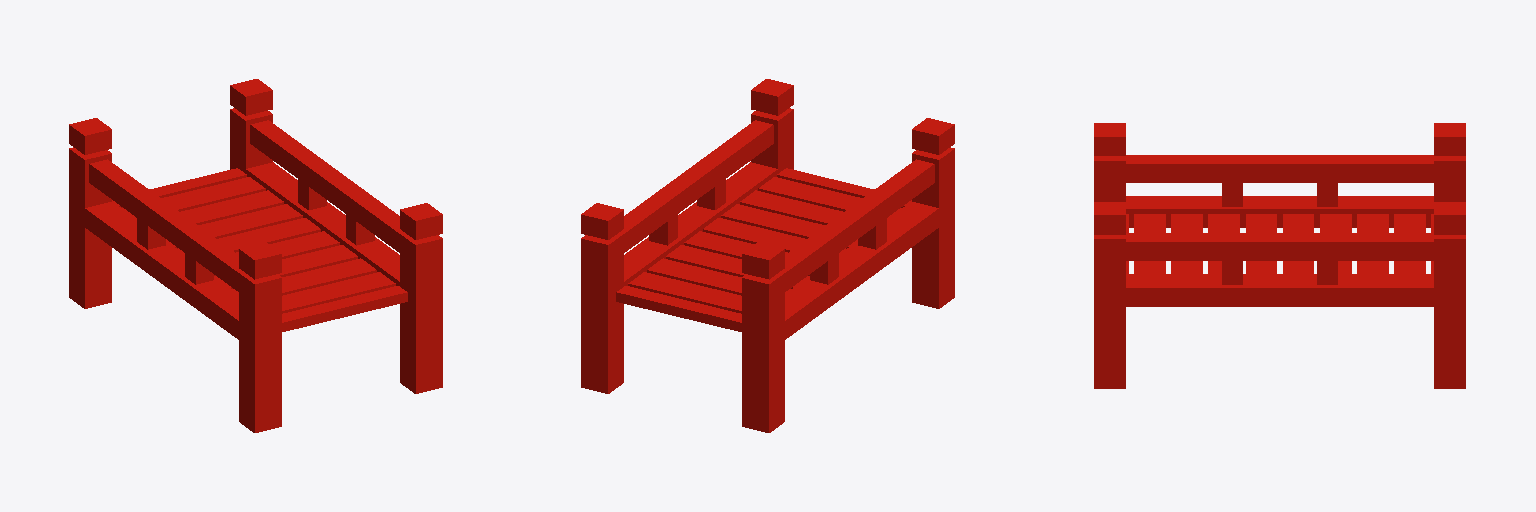
The picture shows the model from 3 angles: view 1: azimuth 30°, elevation 25°; view 2: azimuth 150°, elevation 25°; view 3: azimuth 270°, elevation 25°; orthographic projection.
Visible parts, largest first — view 1: cube; view 2: cube; view 3: cube.
Part boxes in pixels (left/top/right/bottom): cube: left=69, top=79, right=442, bottom=432; cube: left=581, top=79, right=954, bottom=432; cube: left=1094, top=123, right=1465, bottom=388.
Size of the model in its own units: 0.6406 by 0.5625 by 1.09.
Materials: 1 (1 with a texture image).